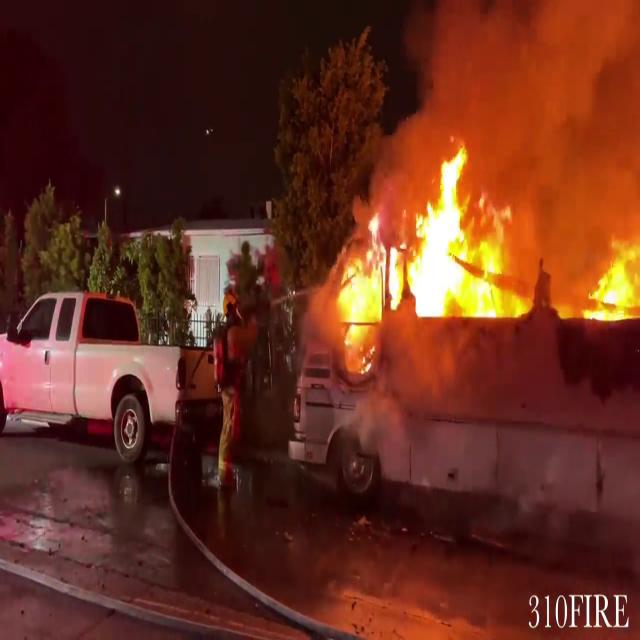Fire: (331, 140, 640, 346), (335, 140, 523, 350), (570, 219, 640, 329)
Smoke: (381, 0, 640, 190)
